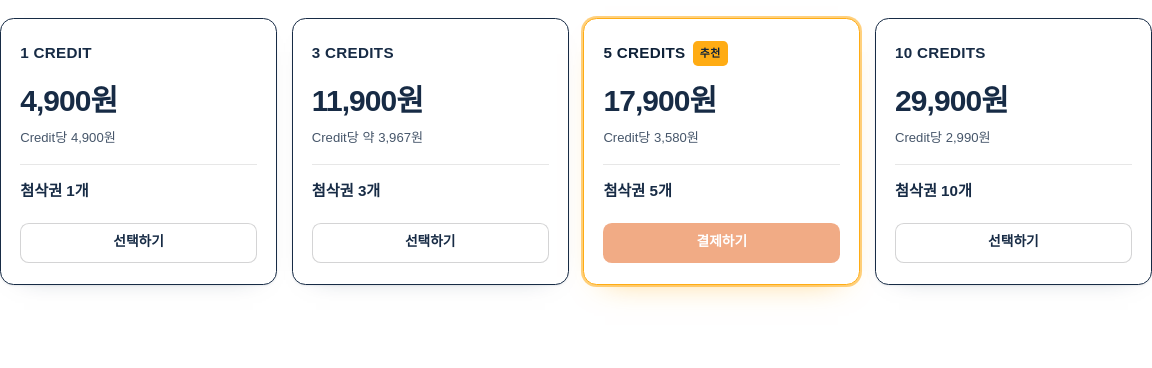
Scenario: pricing product grid › selects on the first click instead of asking for a second one
The image size is (1152, 368).
Click the button "선택하기" below "첨삭권 1개".
click(139, 242)  # box [20,222,257,262]
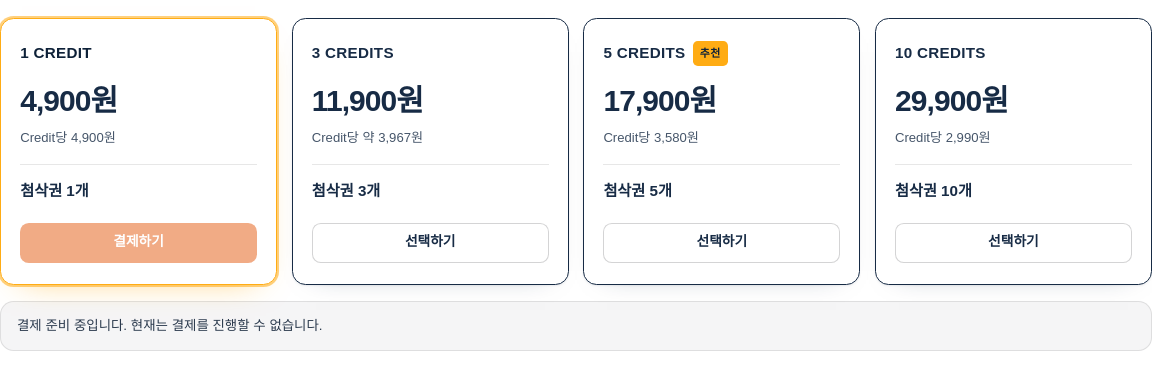
Now the button "결제하기" is shown, box [20,222,257,262]
